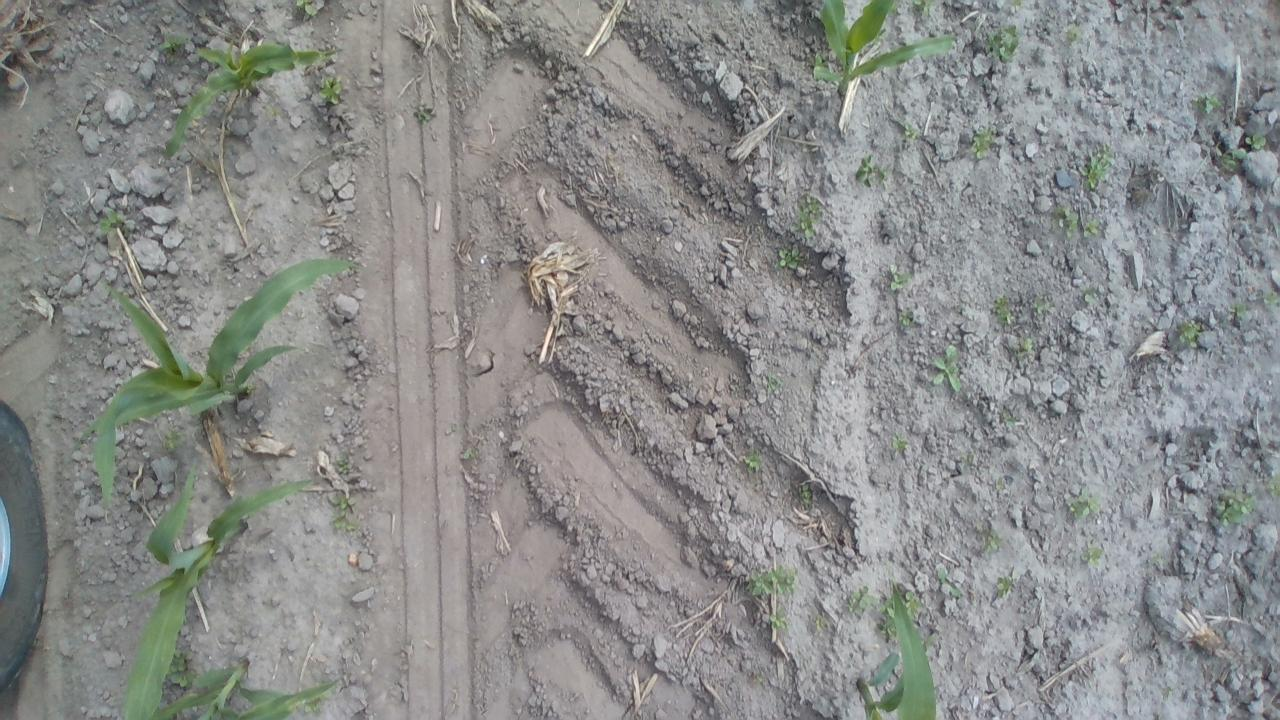Maize: (69, 257, 378, 523), (120, 451, 316, 720), (164, 37, 351, 161), (809, 0, 957, 93), (854, 582, 938, 720), (154, 659, 343, 720)
Weeds: (876, 587, 942, 647), (744, 564, 798, 604), (1054, 206, 1104, 246), (932, 342, 968, 395), (1214, 488, 1260, 526), (1078, 144, 1114, 190), (157, 648, 195, 690), (984, 23, 1022, 59), (791, 194, 820, 241), (324, 494, 361, 530), (1206, 144, 1246, 176), (847, 584, 883, 619), (854, 154, 894, 185), (1064, 488, 1100, 516), (975, 523, 1006, 555), (968, 128, 996, 161), (937, 564, 966, 595), (95, 208, 126, 236), (994, 565, 1017, 600), (316, 78, 344, 105), (165, 424, 188, 456), (772, 248, 801, 272), (1178, 320, 1202, 346), (1196, 92, 1223, 115), (888, 262, 910, 290), (160, 33, 188, 55), (1060, 22, 1084, 46), (1078, 545, 1106, 565), (991, 298, 1012, 324), (910, 0, 938, 19), (764, 371, 782, 398), (1032, 296, 1054, 318), (415, 103, 435, 126), (1146, 550, 1166, 572), (1245, 132, 1268, 151), (902, 120, 920, 144), (302, 697, 326, 715), (333, 454, 351, 478), (892, 435, 916, 453), (294, 0, 322, 15), (264, 106, 292, 120), (1008, 1, 1028, 20), (1016, 336, 1033, 358), (1262, 290, 1280, 310), (1264, 476, 1279, 499), (745, 450, 764, 468), (1002, 411, 1022, 428), (770, 614, 790, 629), (1084, 290, 1100, 308), (799, 482, 812, 504), (897, 311, 914, 326), (460, 448, 478, 460), (1236, 304, 1250, 318), (955, 301, 970, 314), (816, 614, 826, 633)
